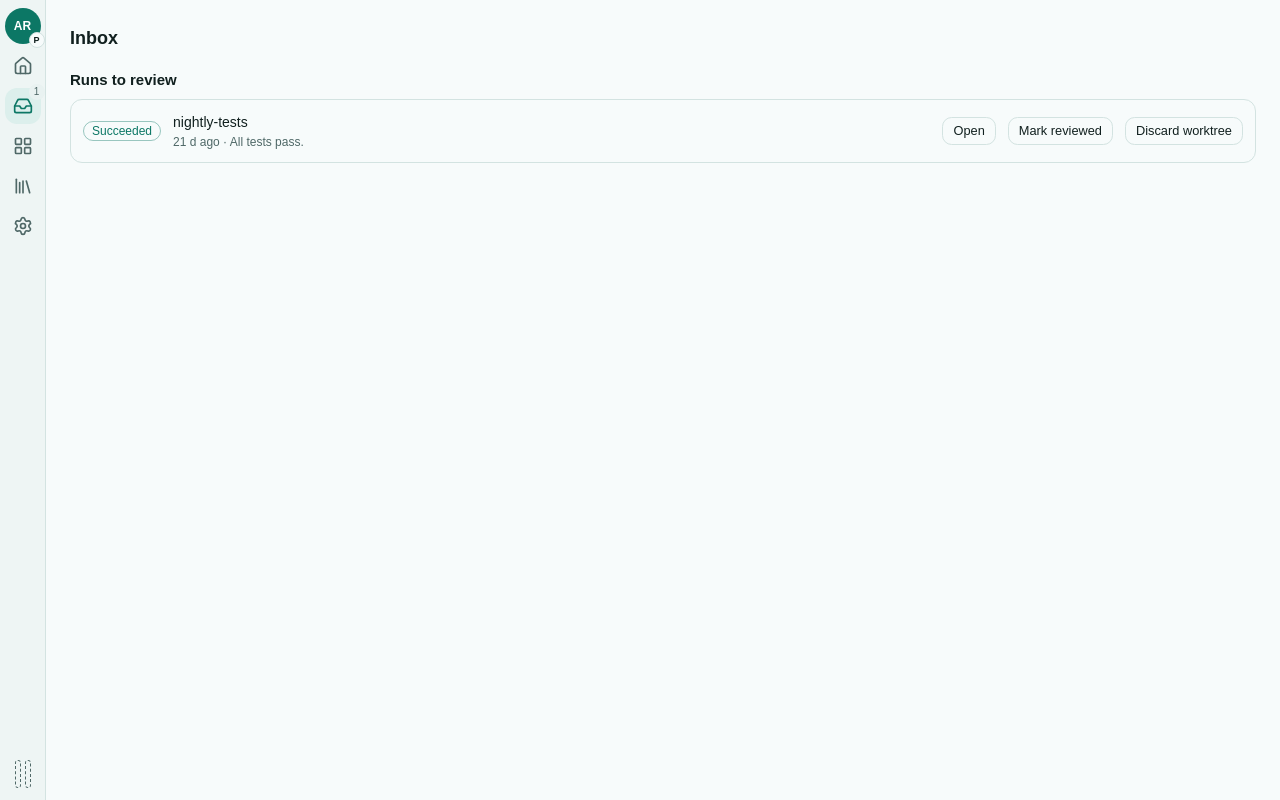
Scenario: the Inbox › discards a worktree only after a confirmation
Click the button "Discard worktree" at (1184, 131), box [1125,117,1243,145]
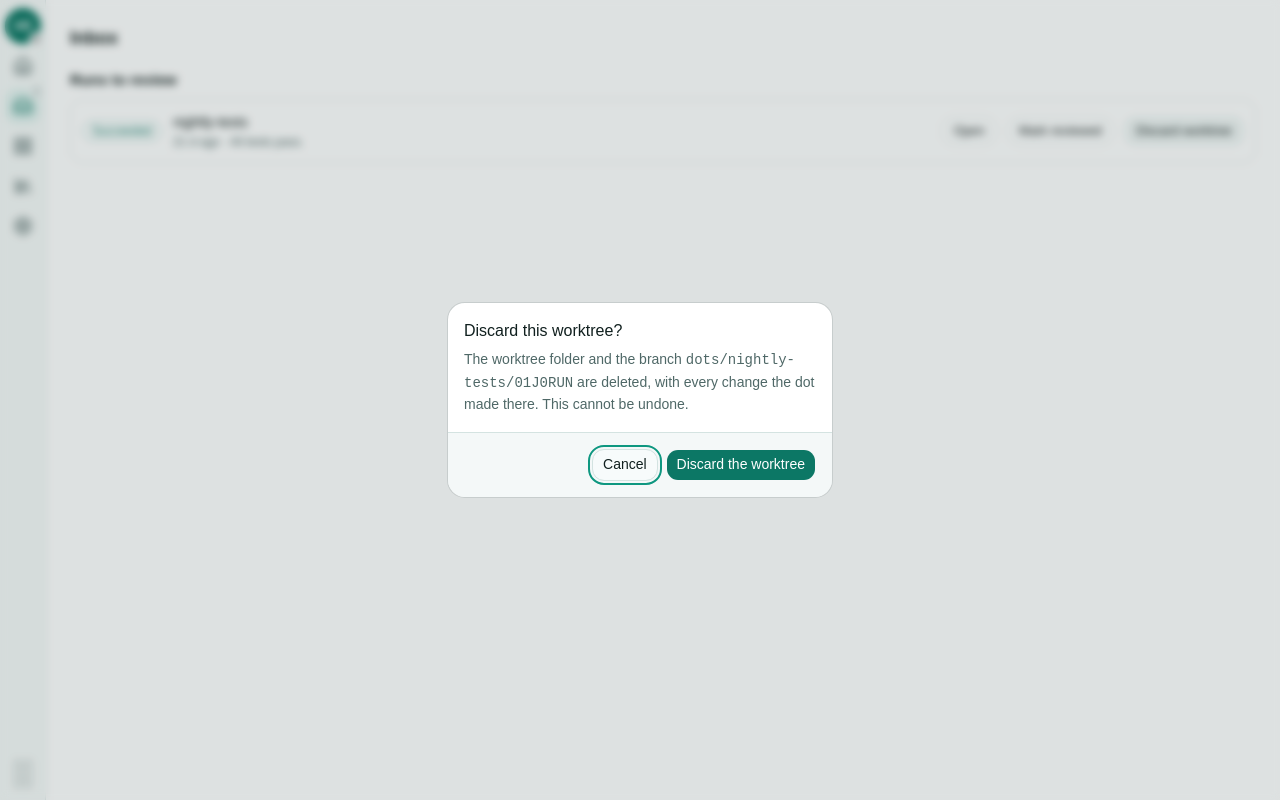
Expected: the dialog shows "dots/nightly-tests/01J0RUN", [464,352,795,391]
Click the button "Cancel" at (625, 465), box [592,449,658,481]
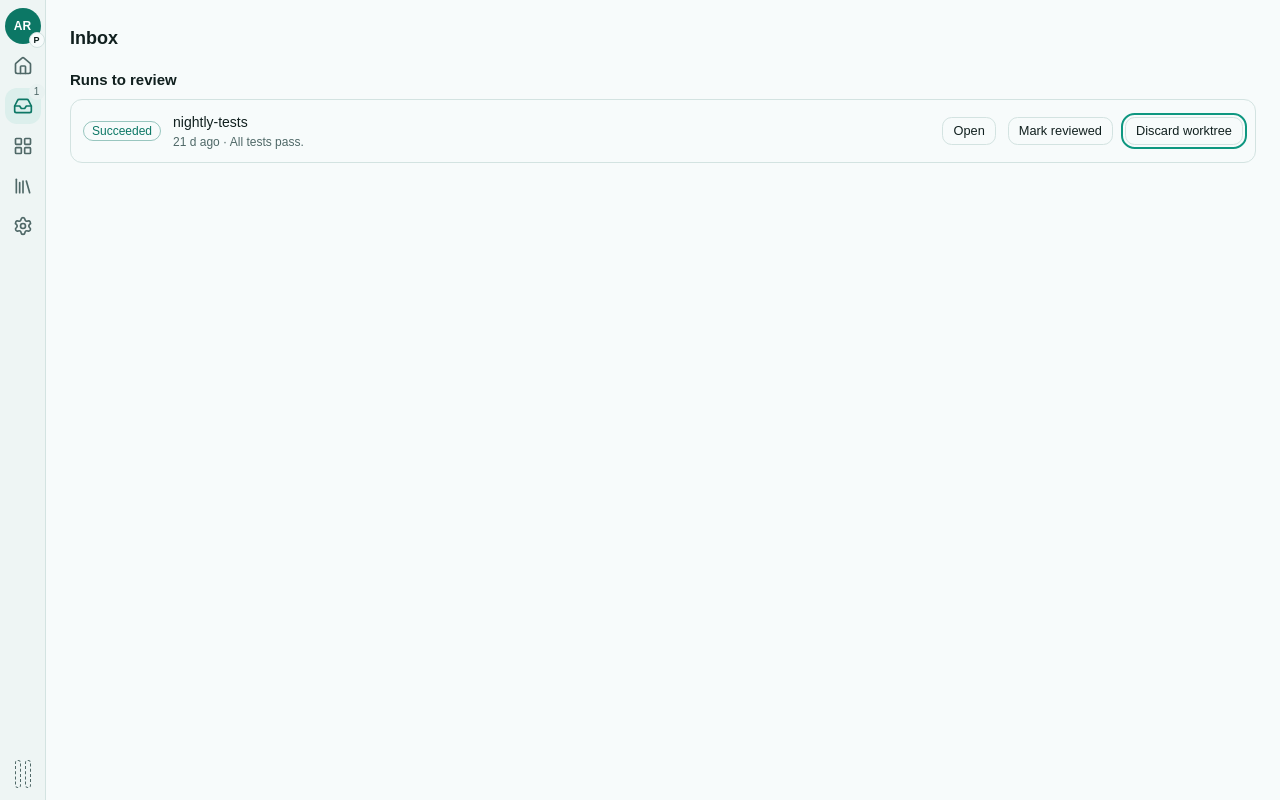
Click the button "Discard worktree" at (1184, 131), box [1125,117,1243,145]
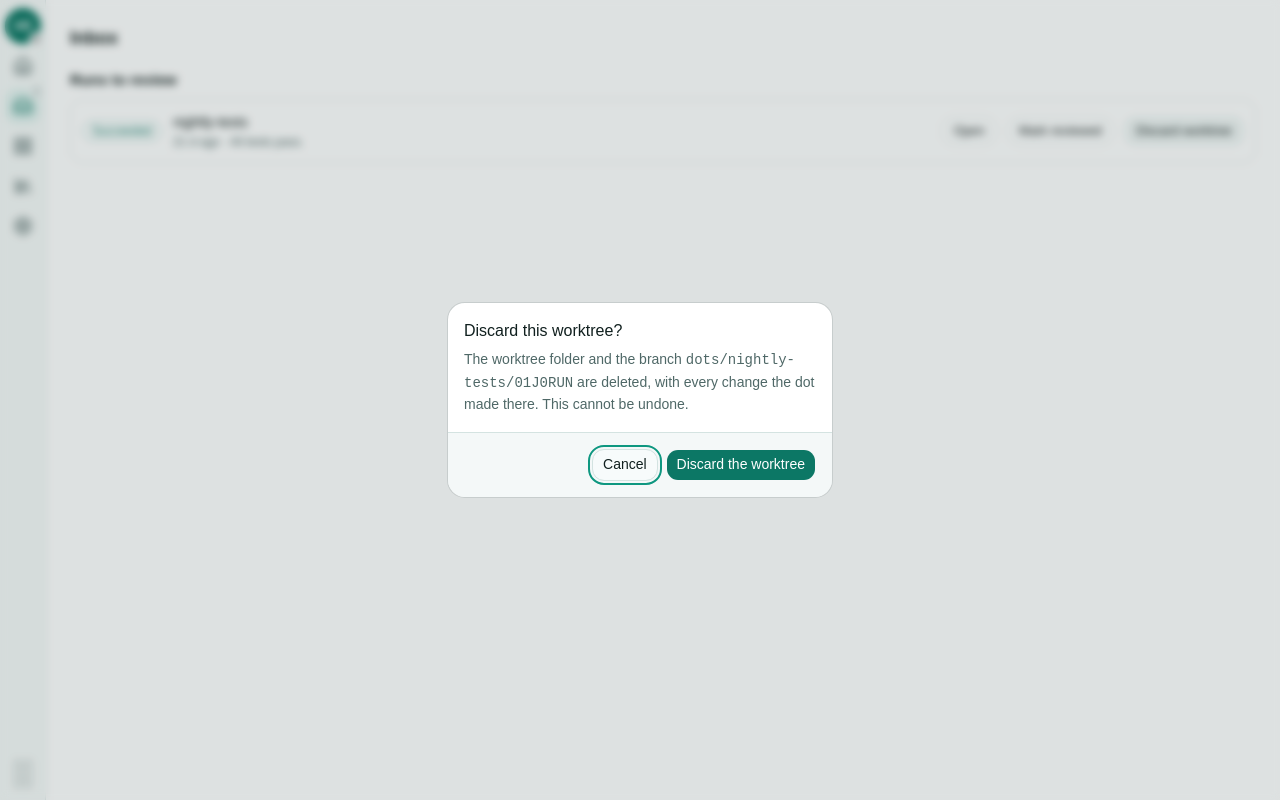
Click the button "Discard the worktree" at (741, 465), box [666,449,816,481]
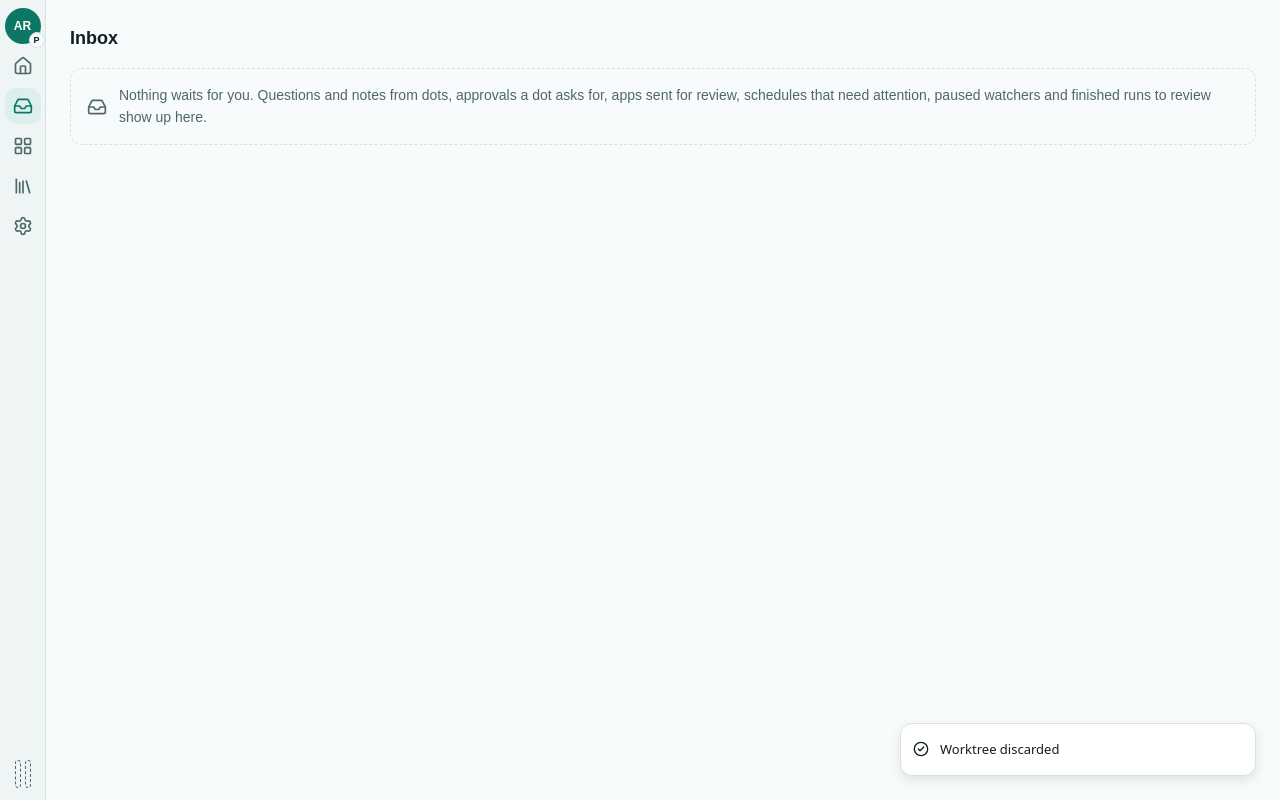
Expected: the text "Worktree discarded" is shown, [940,740,1059,759]
